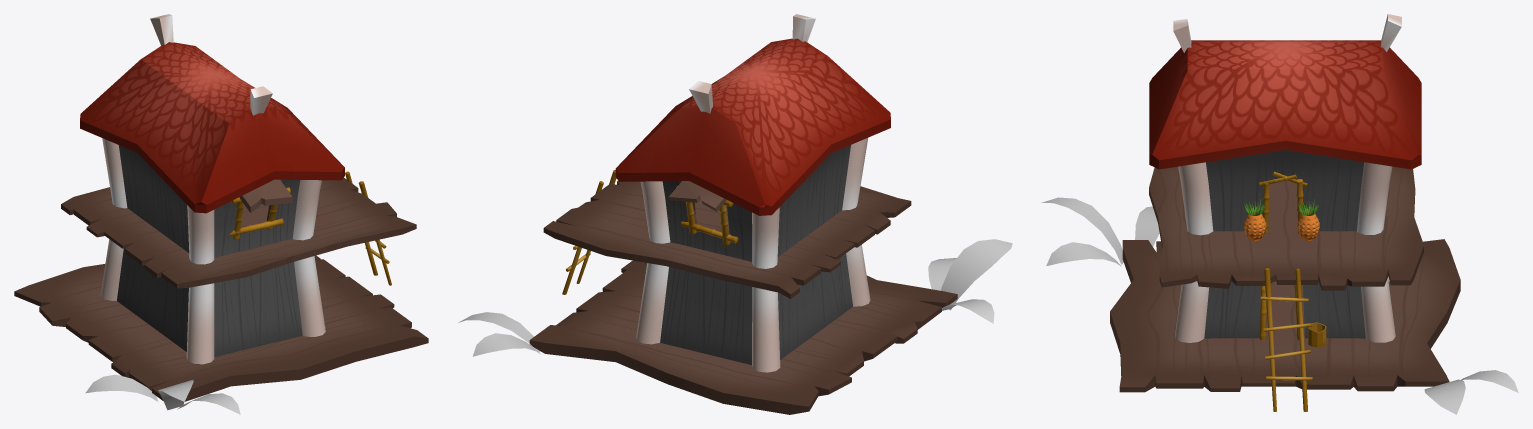
Rendered from BigHut.fbx.
3 views of the same model, side by side, from view 1: azimuth 30°, elevation 25°; view 2: azimuth 150°, elevation 25°; view 3: azimuth 270°, elevation 25° (orthographic). The views are drawn at different scales.
Parts seen in each view (by area): view 1: pCylinder24; view 2: pCylinder24; view 3: pCylinder24.
Boxes of the visible parts, x1,y1,x2,y2 form: pCylinder24: [14, 14, 428, 414]; pCylinder24: [458, 14, 1012, 414]; pCylinder24: [1041, 14, 1518, 414].
Size of the model in its own units: 823 by 565 by 799.
